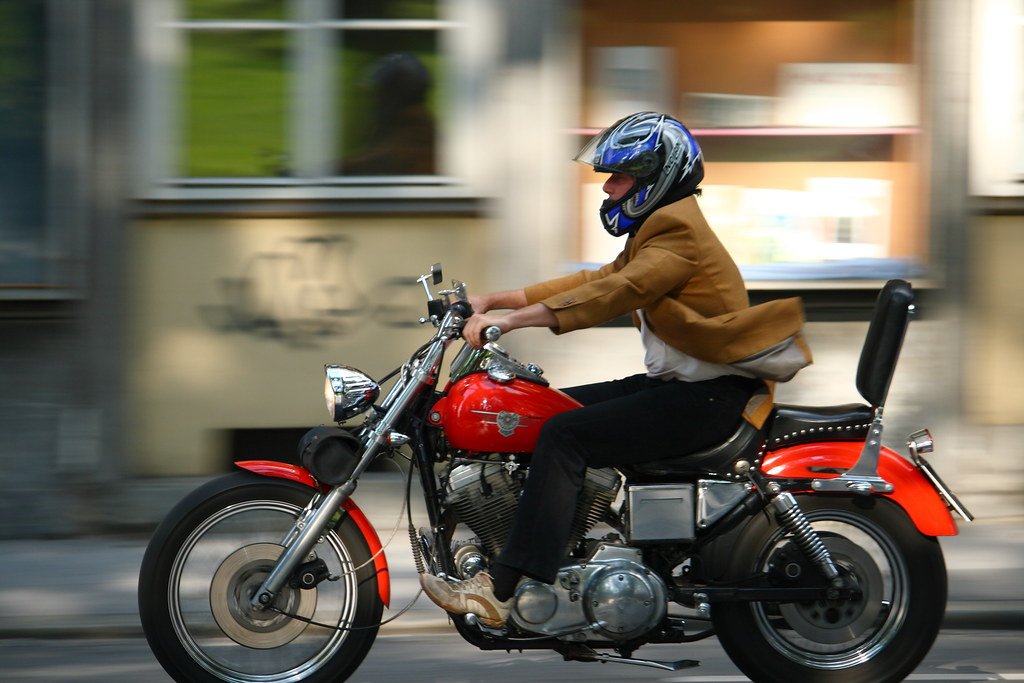helmet: (587, 112, 702, 220)
